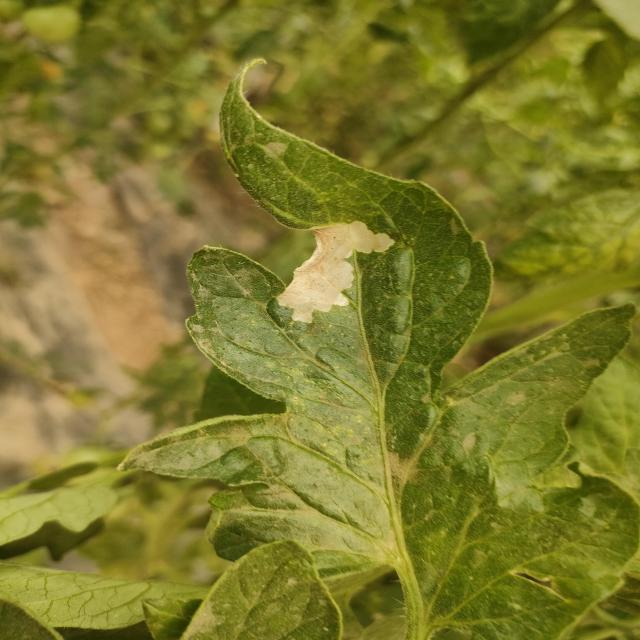Tuta absoluta: (267, 200, 395, 342)
